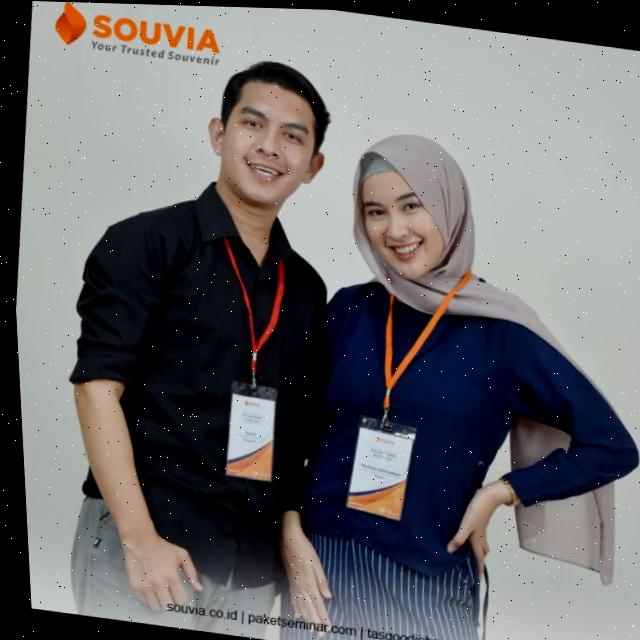id_card: (175, 203, 317, 494), (326, 263, 475, 530)
